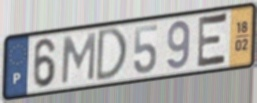5: (132, 22, 159, 75)
6: (32, 37, 59, 90)
9: (165, 18, 192, 72)
D: (94, 26, 130, 85)
E: (195, 11, 230, 71)
M: (59, 31, 98, 86)
